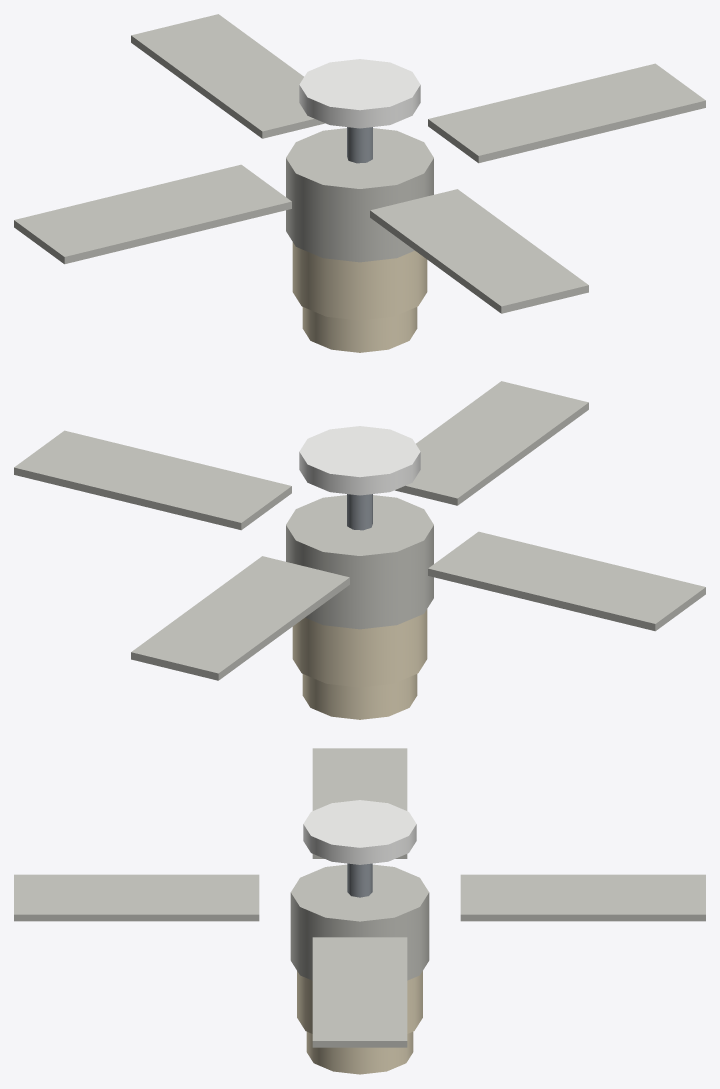
File: ceilingfan-lite.glb
3 renders of one model, top to bottom at view 1: azimuth 30°, elevation 25°; view 2: azimuth 150°, elevation 25°; view 3: azimuth 270°, elevation 25°, orthographic. The views are drawn at different scales.
Parts seen in each view (by area): view 1: material-0-body, material-3-lit, material-2-trim, material-1-metal; view 2: material-0-body, material-3-lit, material-2-trim, material-1-metal; view 3: material-0-body, material-2-trim, material-3-lit, material-1-metal.
Boxes of the visible parts, box(x1,y1,x2,y2) form: material-0-body: box(14, 14, 705, 313); material-3-lit: box(292, 242, 427, 352); material-2-trim: box(299, 59, 420, 128); material-1-metal: box(347, 127, 372, 163); material-0-body: box(14, 381, 705, 680); material-3-lit: box(292, 609, 427, 719); material-2-trim: box(299, 426, 420, 495); material-1-metal: box(347, 494, 372, 530); material-0-body: box(14, 748, 705, 1047); material-2-trim: box(303, 800, 416, 864); material-3-lit: box(297, 971, 422, 1074); material-1-metal: box(347, 863, 372, 897).
Bounding box in the file's own units: 1.1 × 0.4 × 1.1.
